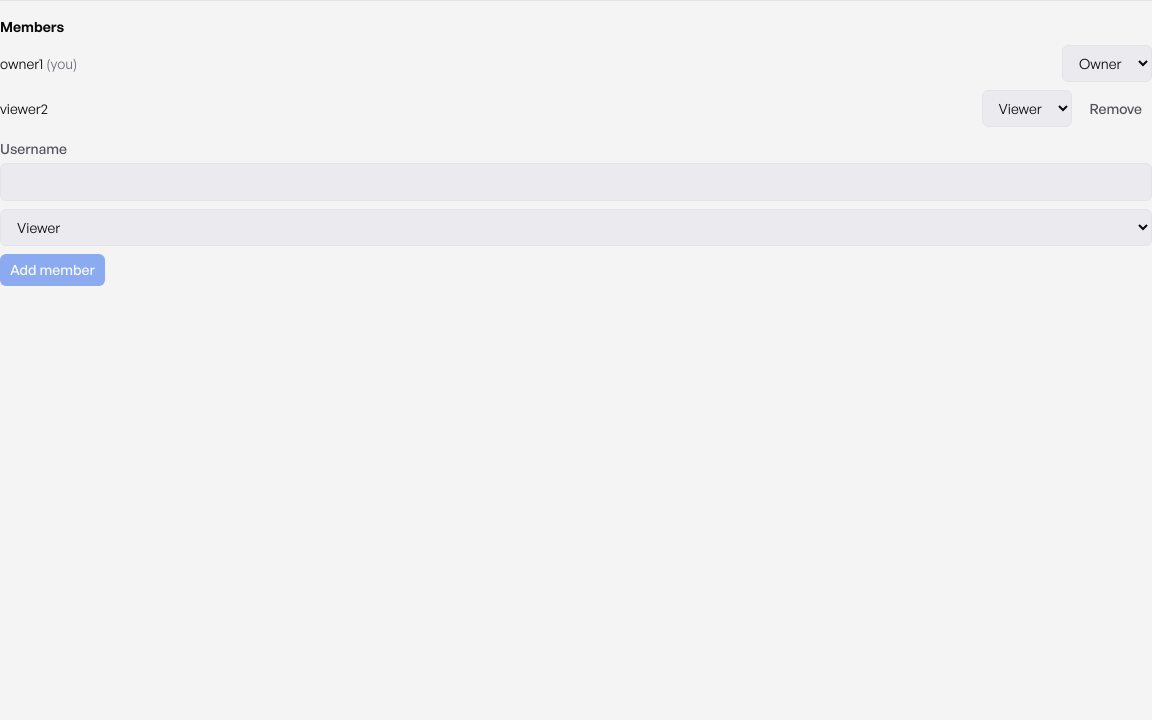
Test case: BookMembersSettings › Remove › removes the member after the confirm
Step 1. Click the button "Remove" → (1116, 108), box [1080, 92, 1151, 124]
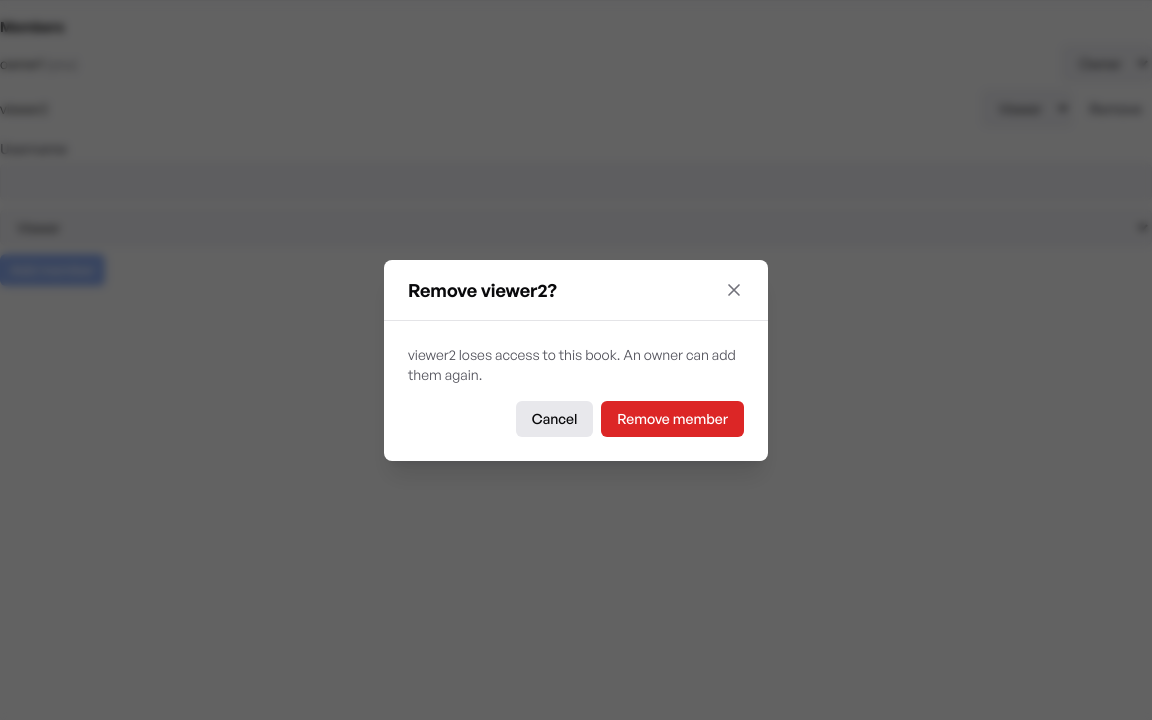
Step 2. Click the button "Remove member" → (673, 418), box [601, 400, 744, 436]
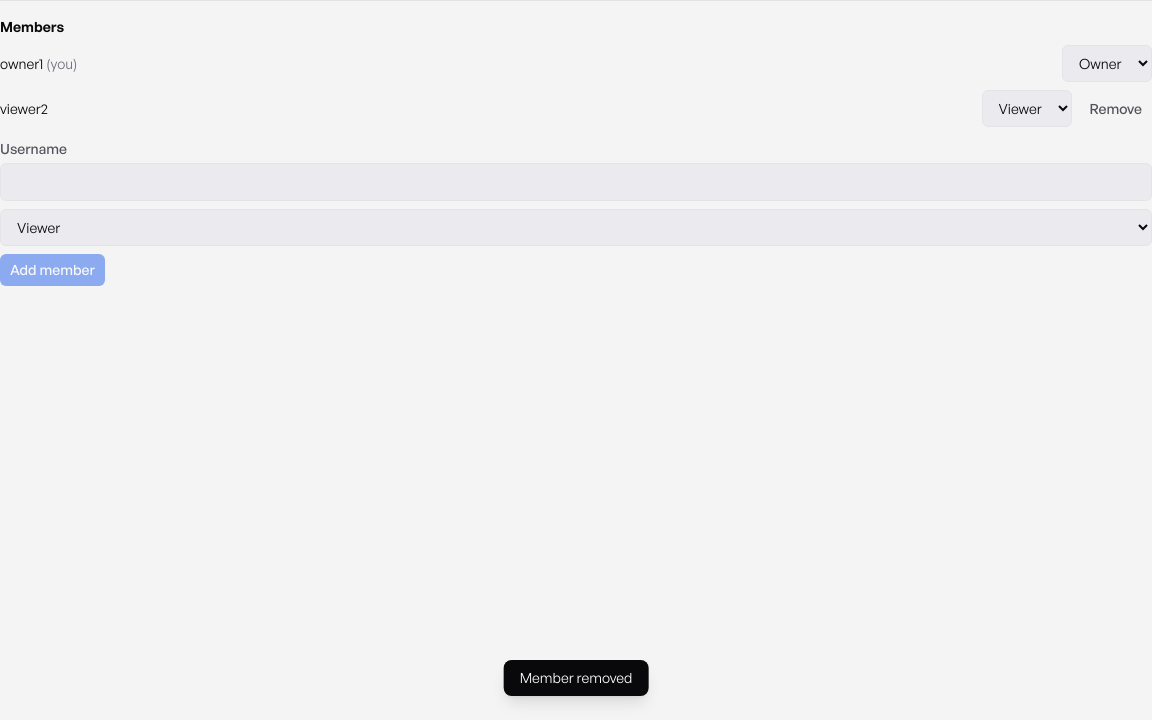
Check: the heading "Remove viewer2?" is gone
